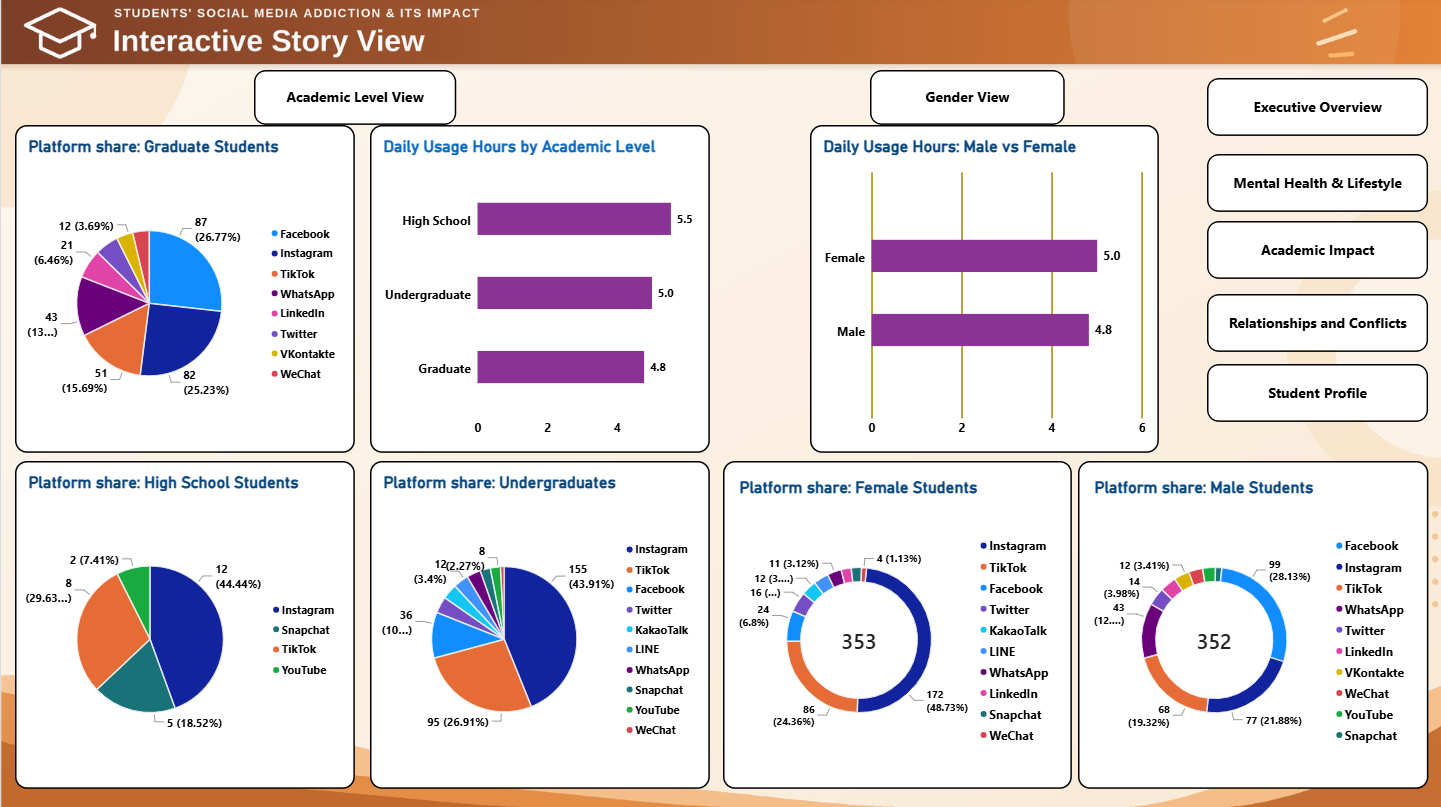

The page's visual inventory and layout, read from the dashboard file:
{"tool":"powerbi","page":{"name":"Interactive Story View","canvas":[1920,1080],"ordinal":4},"visuals":[{"type":"barChart","title":"Daily Usage Hours: Male vs Female","fields":{"Category":["Student Details.Gender"],"Y":["Avg(Platform Details.Avg_Daily_Usage_Hours)"]},"box":[1076,170.2,464.2,436.3],"z":0},{"type":"donutChart","title":"Platform share: Male Students","fields":{"Category":["Platform Details.Most_Used_Platform"],"Y":["CountNonNull(Student Details.Student_ID)"]},"box":[1432.5,617.1,465.5,436.3],"z":1000},{"type":"clusteredBarChart","title":"Daily Usage Hours by Academic Level","fields":{"Category":["Student Details.Academic_Level"],"Y":["Avg(Platform Details.Avg_Daily_Usage_Hours)"]},"box":[490.8,170.2,452.2,436.3],"z":2000},{"type":"pieChart","title":"Platform share: Graduate Students","fields":{"Category":["Platform Details.Most_Used_Platform"],"Y":["CountNonNull(Student Details.Student_ID)"]},"box":[18.6,170.2,452.3,436.2],"z":3000},{"type":"actionButton","title":"Gender Button","box":[1155.8,97.1,259.4,73.2],"z":4000},{"type":"actionButton","title":"Academic Level Button","box":[336.5,97.1,268.7,73.2],"z":5000},{"type":"actionButton","box":[1603.4,488.8,294.3,77],"z":6000},{"type":"actionButton","box":[1603.4,208.6,294.3,77],"z":7000},{"type":"actionButton","box":[1603.4,297.6,294.3,77],"z":8000},{"type":"actionButton","box":[1603.4,395.4,294.3,77],"z":9000},{"type":"actionButton","box":[1603.4,108,294.3,77],"z":10000},{"type":"donutChart","title":"Platform share: Female Students","fields":{"Category":["Platform Details.Most_Used_Platform"],"Y":["CountNonNull(Student Details.Student_ID)"]},"box":[960.3,617.1,464,436.2],"z":11000},{"type":"pieChart","title":"Platform share: High School Students","fields":{"Category":["Platform Details.Most_Used_Platform"],"Y":["CountNonNull(Student Details.Student_ID)"]},"box":[18.6,617.1,452.3,436.2],"z":12000},{"type":"pieChart","title":"Platform share:  Undergraduates","fields":{"Category":["Platform Details.Most_Used_Platform"],"Y":["CountNonNull(Student Details.Student_ID)"]},"box":[490.8,617.1,452.2,436.3],"z":13000}]}

Visuals, with their boxes in screenshot pixels (x1, y1, x2, y2), scaled from the page's 1920x1080 canvas onto the 1441x807 screenshot:
"Daily Usage Hours: Male vs Female" barChart: BBox(808, 127, 1156, 453)
"Platform share: Male Students" donutChart: BBox(1075, 461, 1424, 787)
"Daily Usage Hours by Academic Level" clusteredBarChart: BBox(368, 127, 708, 453)
"Platform share: Graduate Students" pieChart: BBox(14, 127, 353, 453)
"Gender Button" actionButton: BBox(867, 73, 1062, 127)
"Academic Level Button" actionButton: BBox(253, 73, 454, 127)
actionButton: BBox(1203, 365, 1424, 423)
actionButton: BBox(1203, 156, 1424, 213)
actionButton: BBox(1203, 222, 1424, 280)
actionButton: BBox(1203, 295, 1424, 353)
actionButton: BBox(1203, 81, 1424, 138)
"Platform share: Female Students" donutChart: BBox(721, 461, 1069, 787)
"Platform share: High School Students" pieChart: BBox(14, 461, 353, 787)
"Platform share:  Undergraduates" pieChart: BBox(368, 461, 708, 787)
